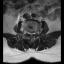CCS_severe_stenosis: (30, 30, 32, 38)
LFS_stenosis: (34, 30, 36, 36)
LLS_stenosis: (32, 30, 34, 36)
RFS_normal: (26, 30, 28, 35)
RLS_normal: (28, 30, 30, 36)
